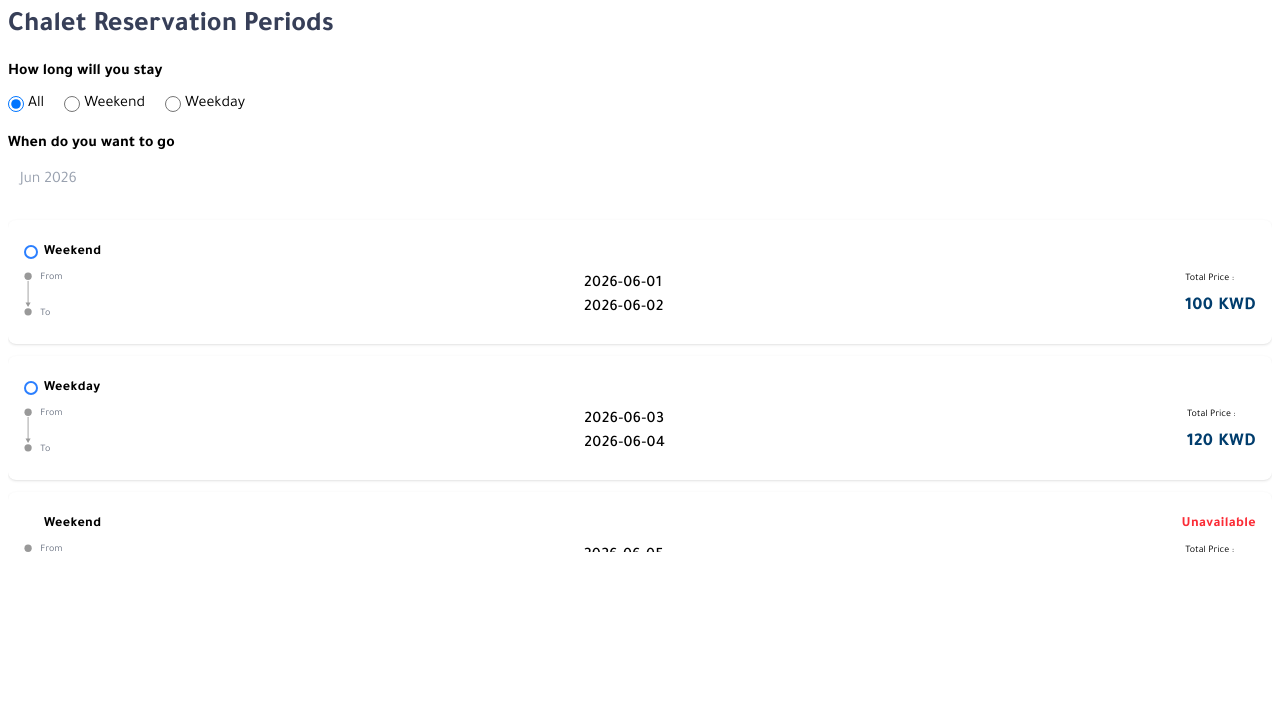
it: Periodic reservation UI regressions › filters periods by the selected period type
Click the radio button labelled "Weekday" at (173, 104), box [165,96,181,112]
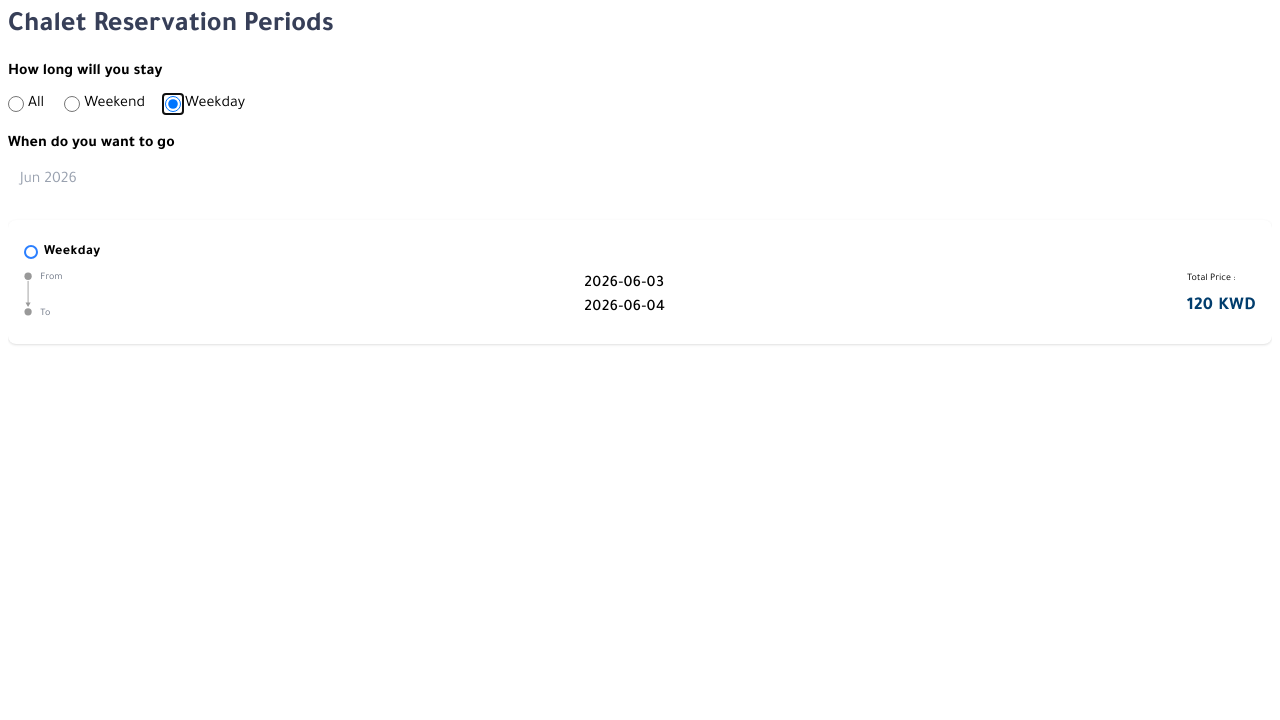
Expected: the text "2026-06-03" is shown, [584,272,664,296]
Expected: the text "2026-06-01" is gone
